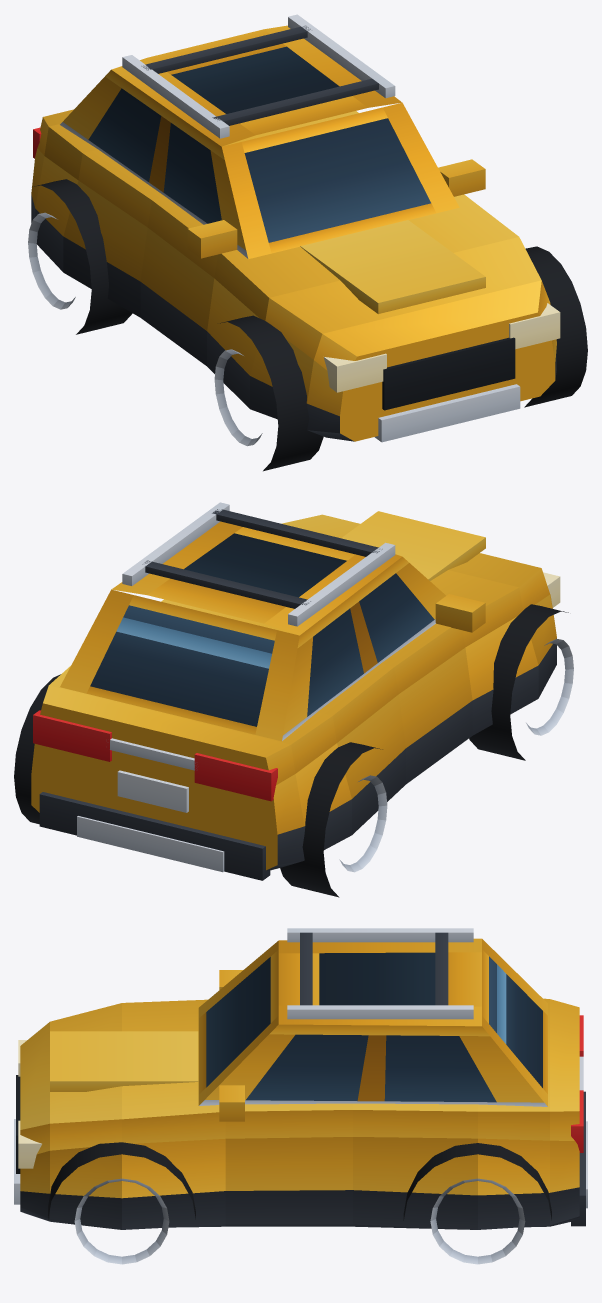
File: suv-luxury.glb
3 views of the same model, one above another, from view 1: azimuth 30°, elevation 25°; view 2: azimuth 150°, elevation 25°; view 3: azimuth 270°, elevation 25° (orthographic). The views are drawn at different scales.
Visible parts, largest first — view 1: body, wheel-set; view 2: body, wheel-set; view 3: body, wheel-set.
Boxes of the visible parts, <box> form: body: <box>31,14,560,442</box>; wheel-set: <box>28,179,587,471</box>; body: <box>31,502,560,880</box>; wheel-set: <box>14,604,573,897</box>; body: <box>14,928,587,1229</box>; wheel-set: <box>48,1142,551,1264</box>.
Size of the model in its own units: 1.62 by 1.29 by 2.71.
Materials: 1 (1 with a texture image).
